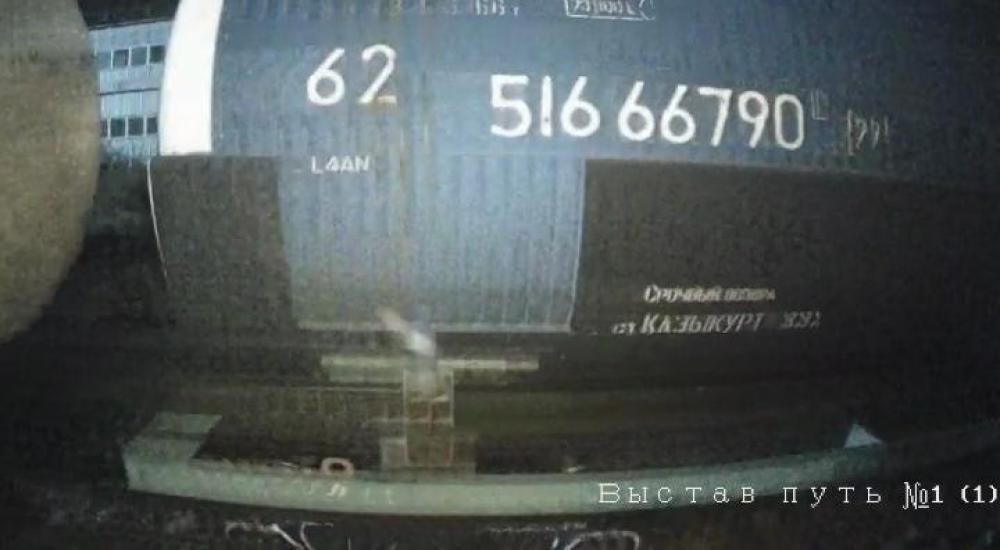Wagon-number: (482, 66, 807, 155)
